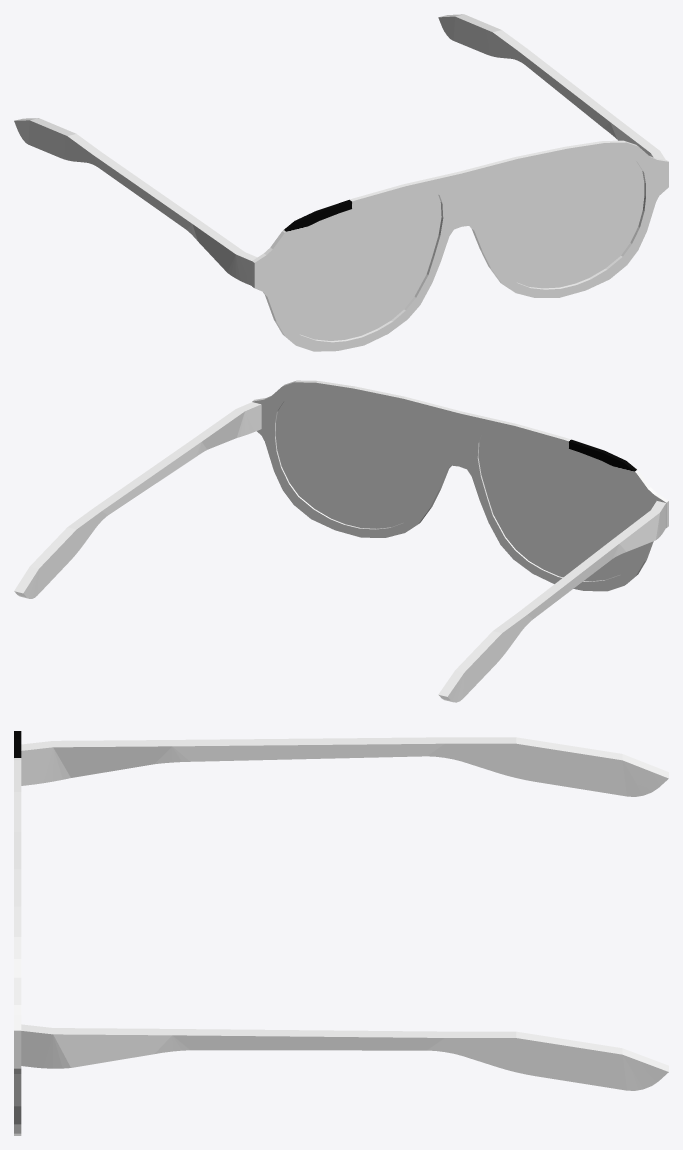
File: Glasses_NEW.fbx
3 views of the same model, one above another, from view 1: azimuth 30°, elevation 25°; view 2: azimuth 150°, elevation 25°; view 3: azimuth 270°, elevation 25° (orthographic). The views are drawn at different scales.
Parts seen in each view (by area): view 1: Glasses.001; view 2: Glasses.001; view 3: Glasses.001.
Part boxes in pixels (x1,y1,x2,y2): Glasses.001: (14, 14, 668, 351); Glasses.001: (14, 380, 668, 702); Glasses.001: (14, 731, 668, 1135).
Bounding box in the file's own units: 15.22 × 4.99 × 14.01.
